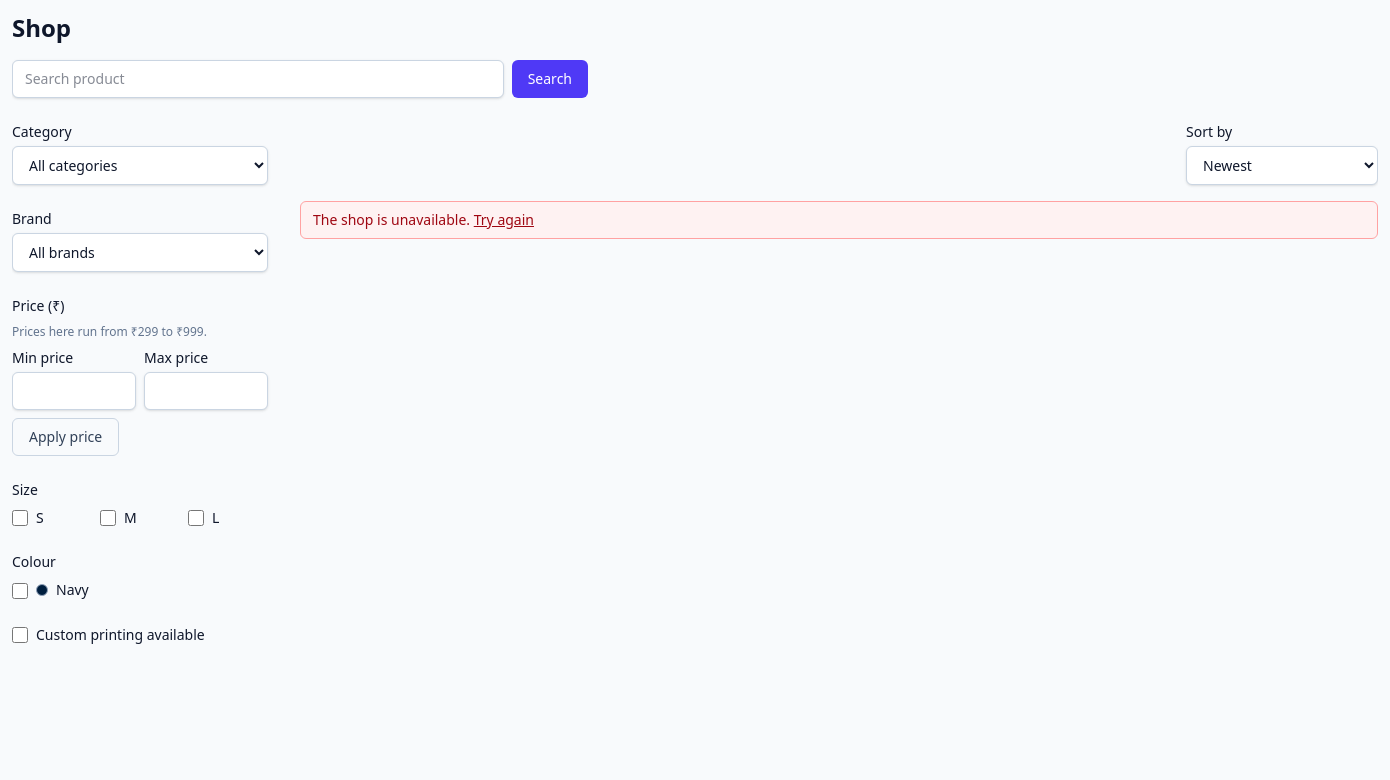
Scenario: ProductListPage › shows the error and recovers when the shopper tries again
The image size is (1390, 780).
expect the message shows "The shop is unavailable.": met, box [313, 210, 470, 229]
Click the button "Try again".
click(504, 220)  # box [474, 210, 534, 230]
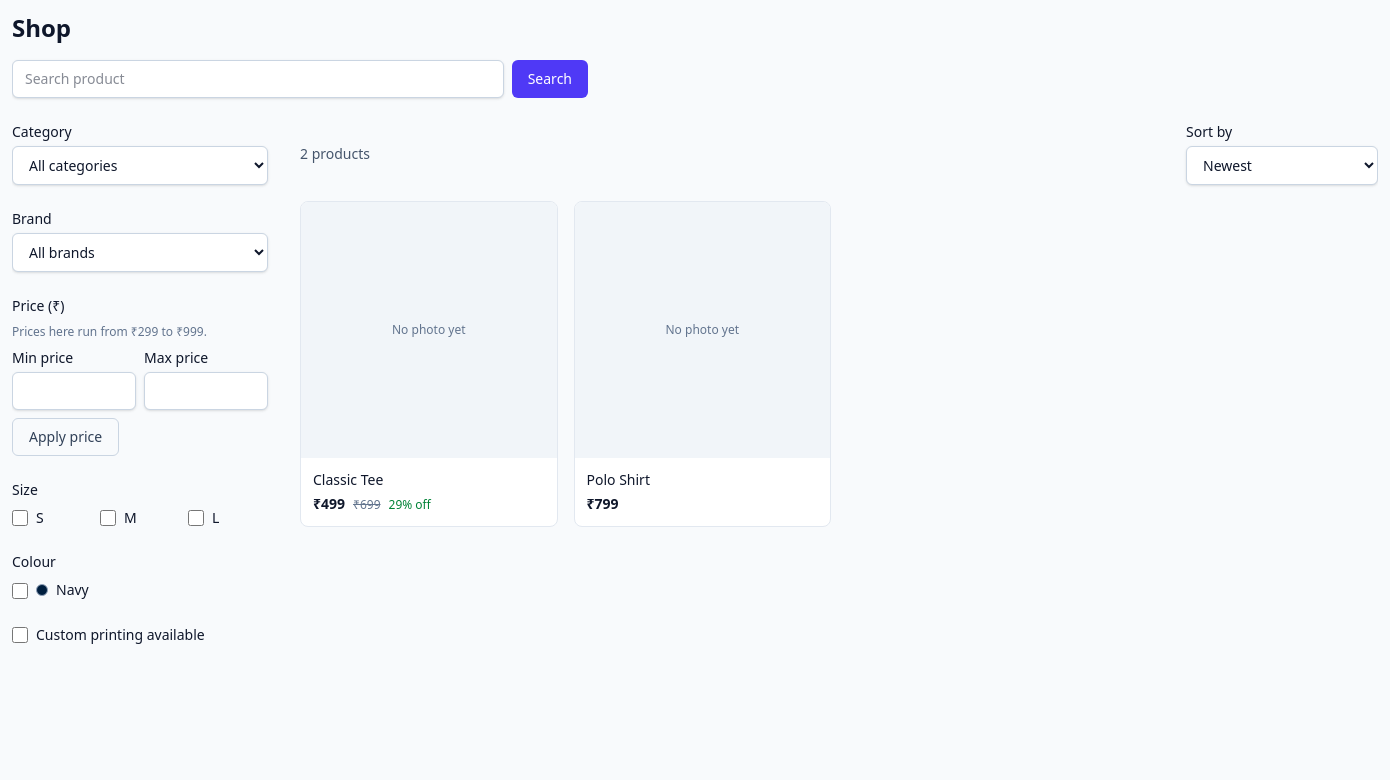
expect the link "No photo yet Classic Tee ₹499₹69929% off" is shown: met, box [300, 201, 558, 526]
